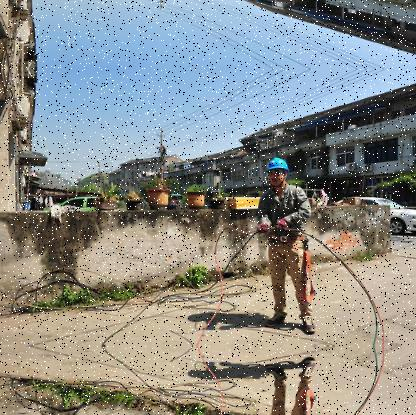helmet: (265, 153, 293, 187)
